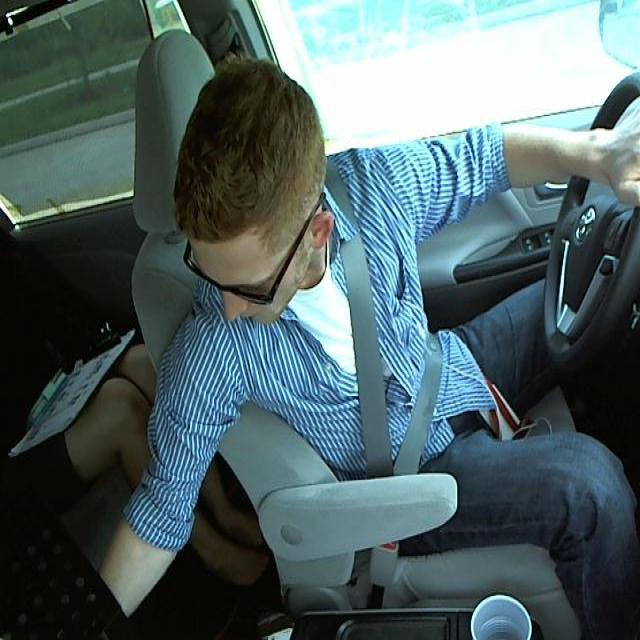seatbelt: (337, 234, 453, 466)
